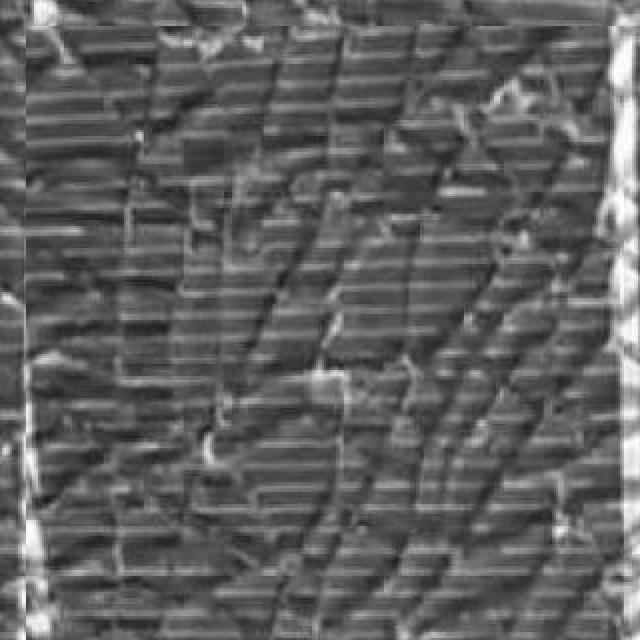Physical-damage: (0, 3, 637, 634)
